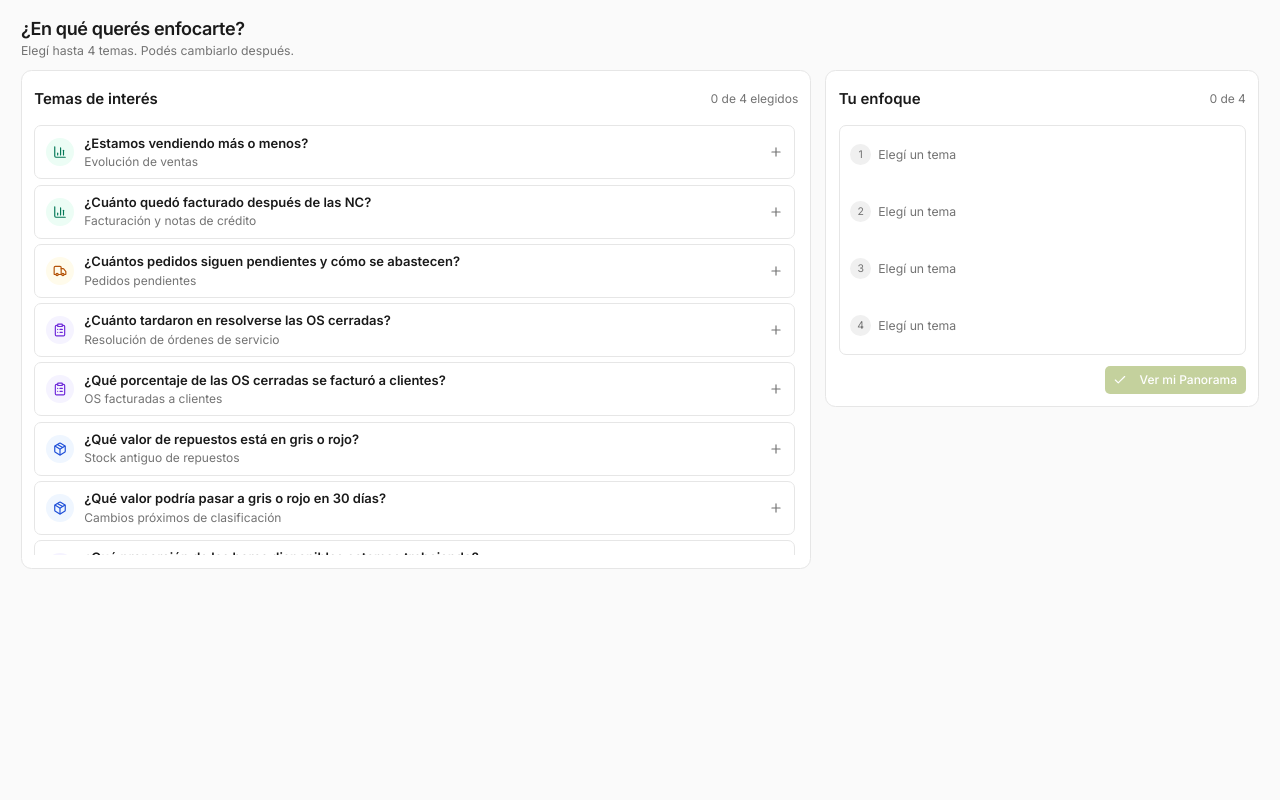
Scenario: Campi Panorama configuration › reorders topics by dragging as well as with keyboard-accessible buttons
Later steps or results of the test are not shown.
Click the button "Facturación y notas de crédito" at (228, 202), box [34,184,795,238]
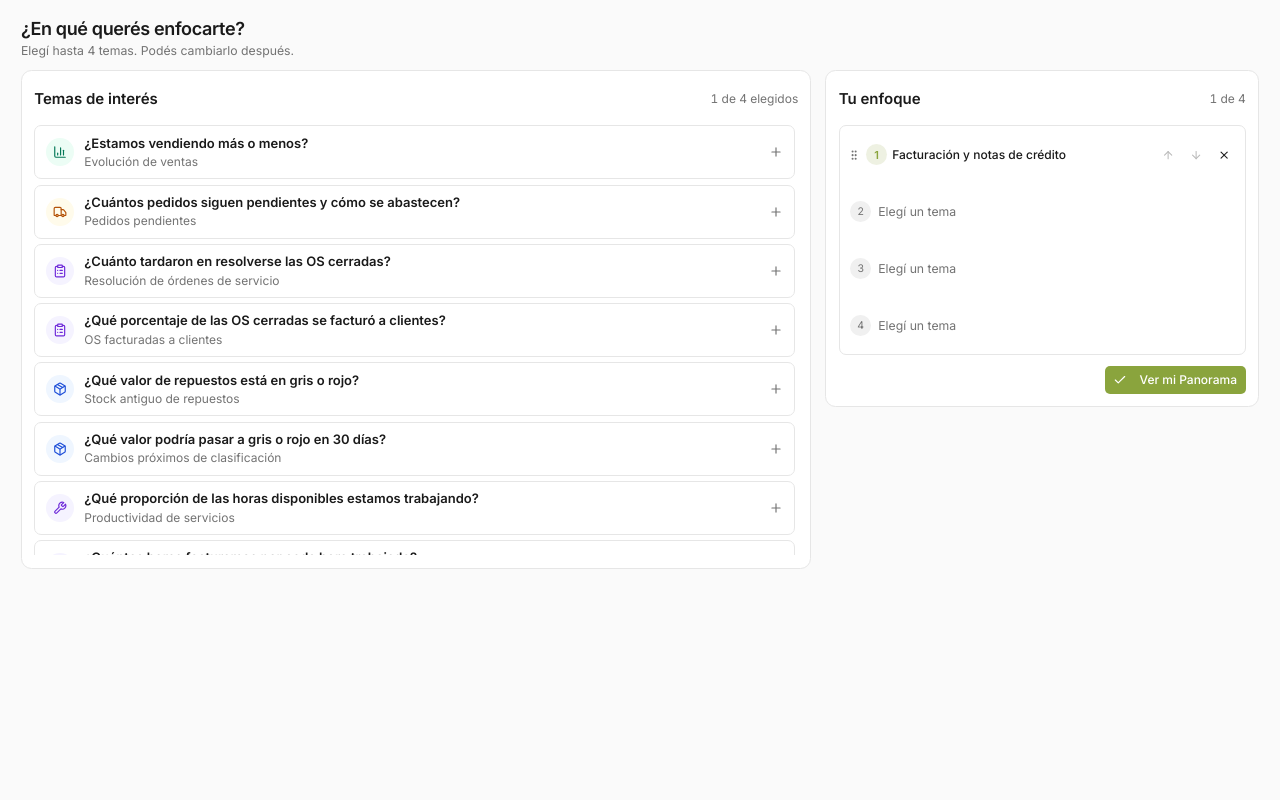
Click the button "Pedidos pendientes" at (415, 212), box [34,184,795,238]
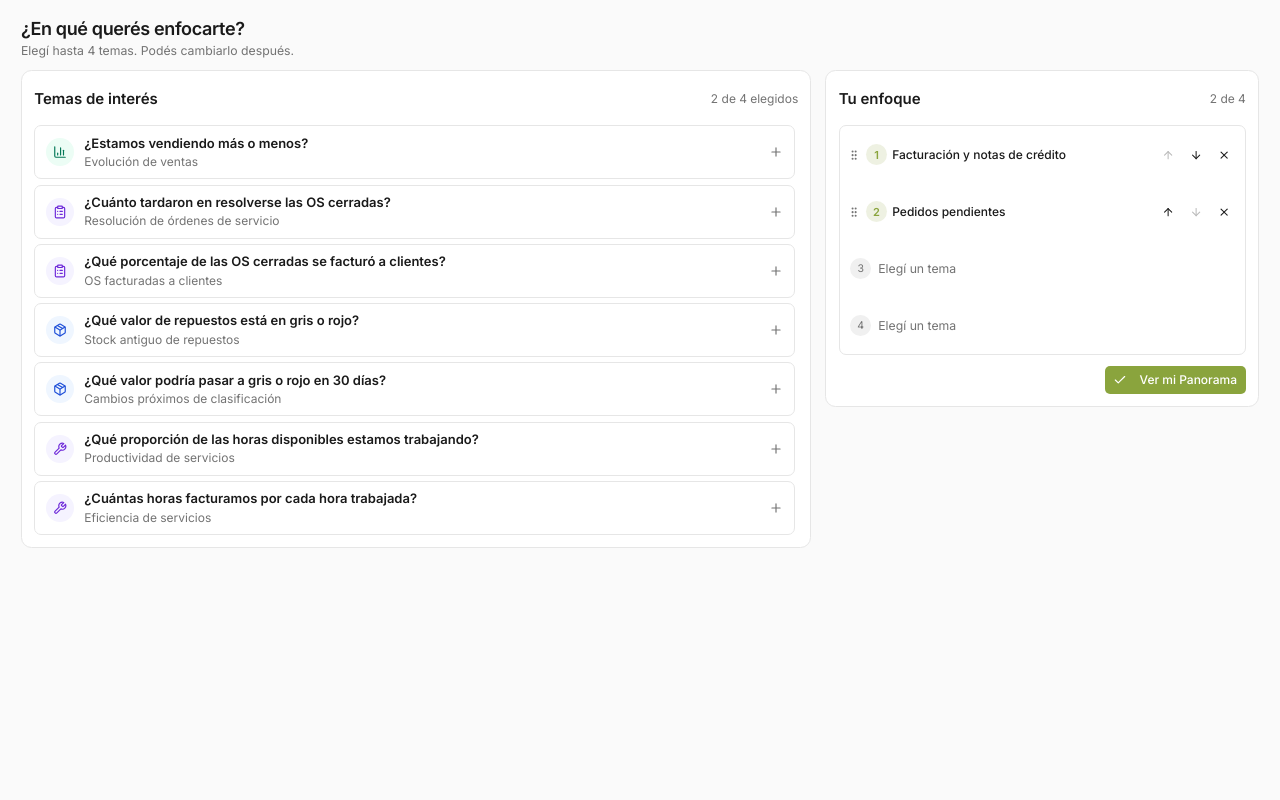
Expected: the list item "Facturación y notas de crédito" is shown, [892,147,1066,162]
Expected: the list item "Pedidos pendientes" is shown, [892,204,1006,219]
